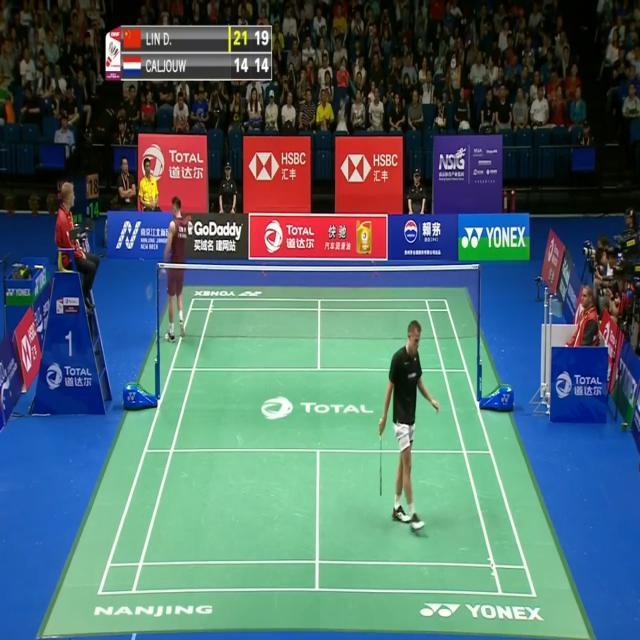Player1: (373, 313, 442, 537)
Player2: (158, 188, 196, 350)
